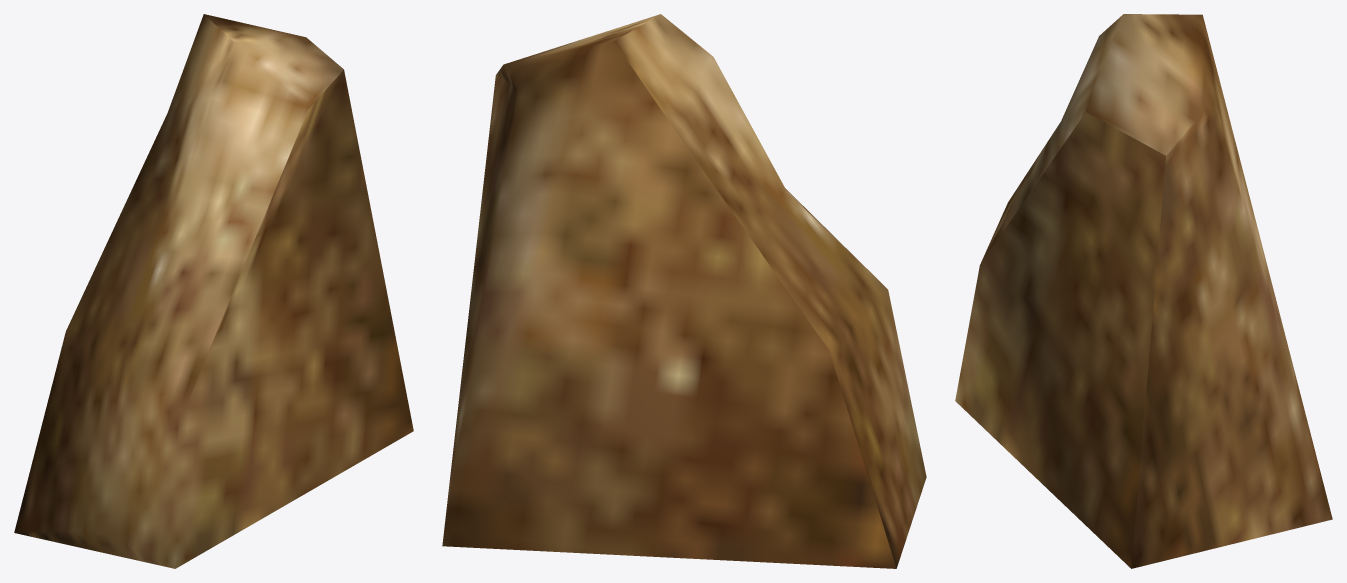
File: b_general_obj_15.glb
The picture shows the model from 3 angles, left to right: view 1: azimuth 30°, elevation 25°; view 2: azimuth 150°, elevation 25°; view 3: azimuth 270°, elevation 25°; orthographic projection. The views are drawn at different scales.
Parts seen in each view (by area): view 1: Object02; view 2: Object02; view 3: Object02.
Part boxes in pixels (x1,y1,x2,y2): Object02: (14, 14, 413, 568); Object02: (442, 14, 926, 568); Object02: (955, 14, 1332, 568).
Bounding box in the file's own units: 0.9616 × 1.02 × 0.744.
Materials: 1 (1 with a texture image).
